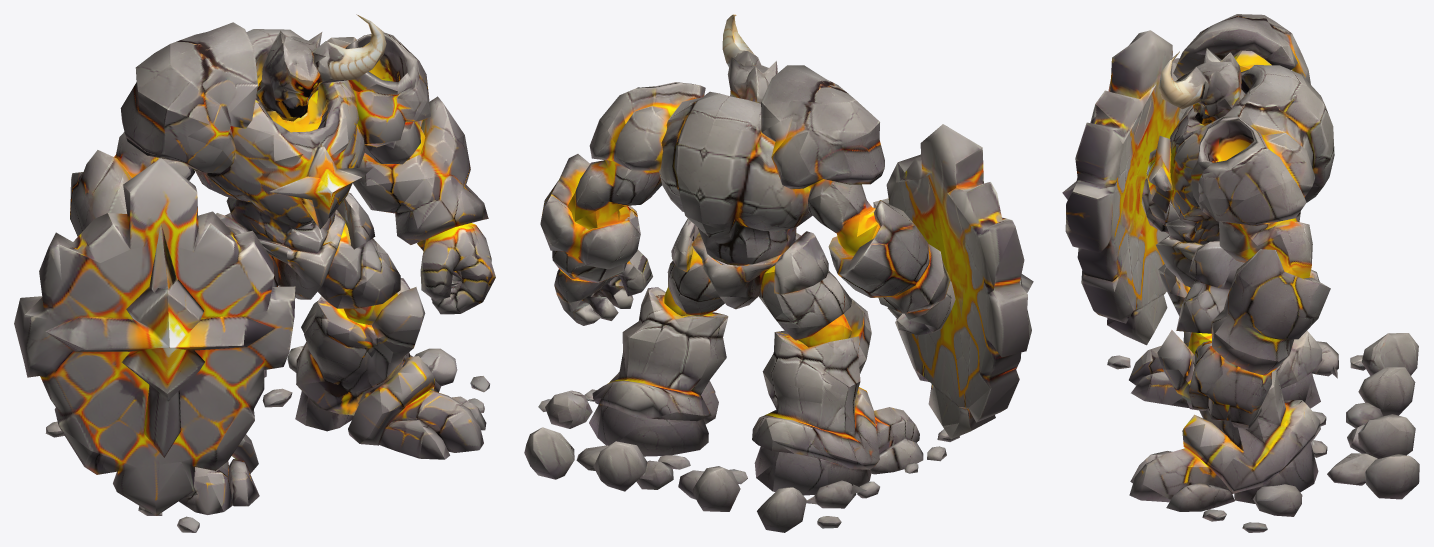
File: golem_meshy.glb
3 renders of one model, left to right at view 1: azimuth 30°, elevation 25°; view 2: azimuth 150°, elevation 25°; view 3: azimuth 270°, elevation 25°, orthographic. The views are drawn at different scales.
Bounding box in the file's own units: 2 × 1.71 × 1.36.
1 material, 1 textured.
